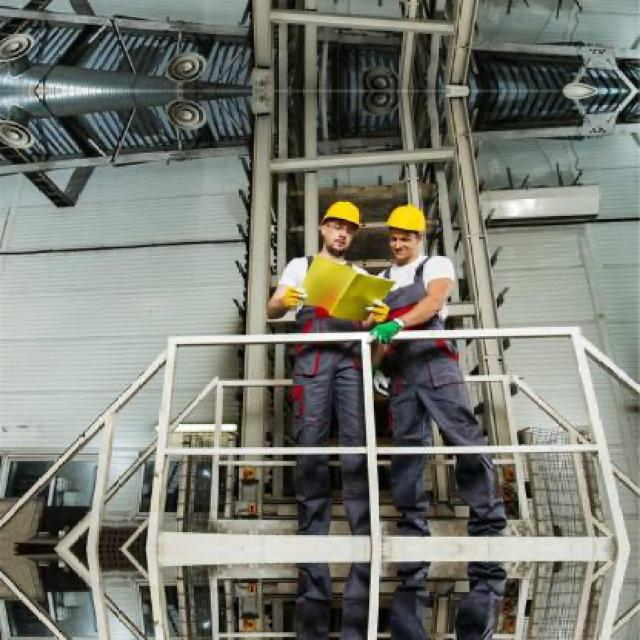helmet: (380, 201, 431, 262), (315, 194, 368, 250)
